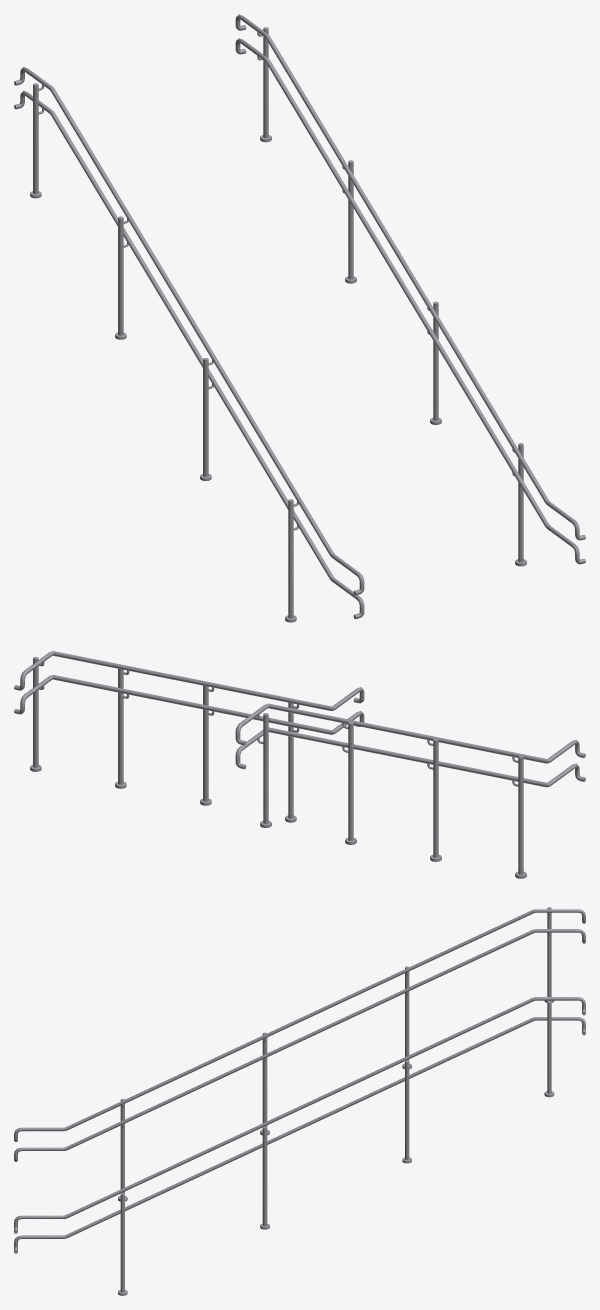
File: gteki_ik_stair_n13_r169_t329_w1845_rails_post.glb
3 views of the same model, one above another, from view 1: azimuth 30°, elevation 25°; view 2: azimuth 150°, elevation 25°; view 3: azimuth 270°, elevation 25° (orthographic). The views are drawn at different scales.
Parts seen in each view (by area): view 1: VIS_handrails, VIS_rail_supports; view 2: VIS_handrails, VIS_rail_supports; view 3: VIS_handrails, VIS_rail_supports.
Boxes of the visible parts, x1,y1,x2,y2 form: VIS_handrails: (14, 14, 585, 618); VIS_rail_supports: (30, 27, 526, 622); VIS_handrails: (14, 651, 585, 787); VIS_rail_supports: (30, 657, 526, 878); VIS_handrails: (14, 909, 585, 1253); VIS_rail_supports: (118, 907, 554, 1295).
Bounding box in the file's own units: 2.12 × 2.96 × 5.21.
Materials: 1 (1 with a texture image).
